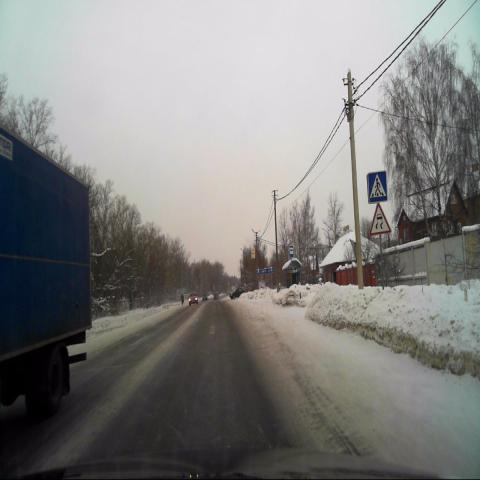1_15: (369, 202, 392, 236)
